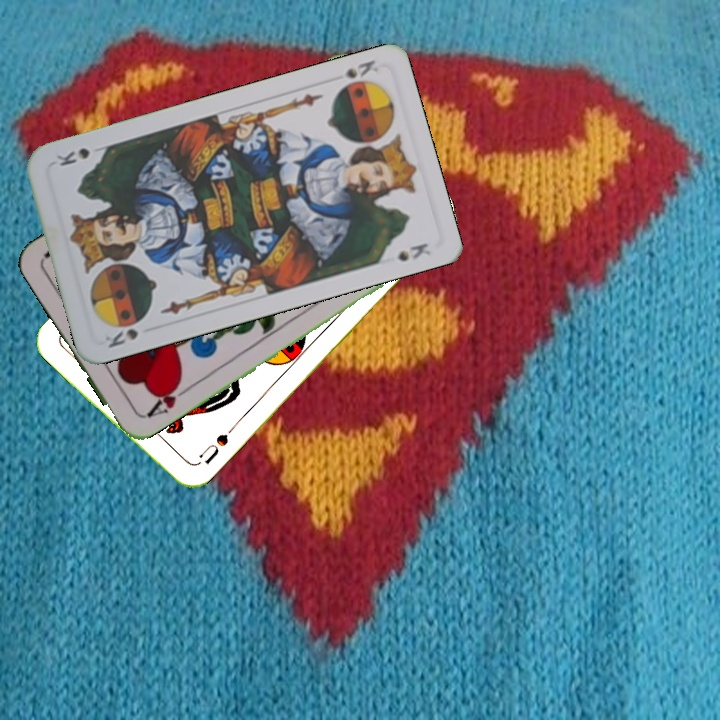HA: (140, 376, 193, 421)
SK: (333, 55, 380, 93), (100, 324, 141, 351)
SU: (194, 423, 236, 467)
